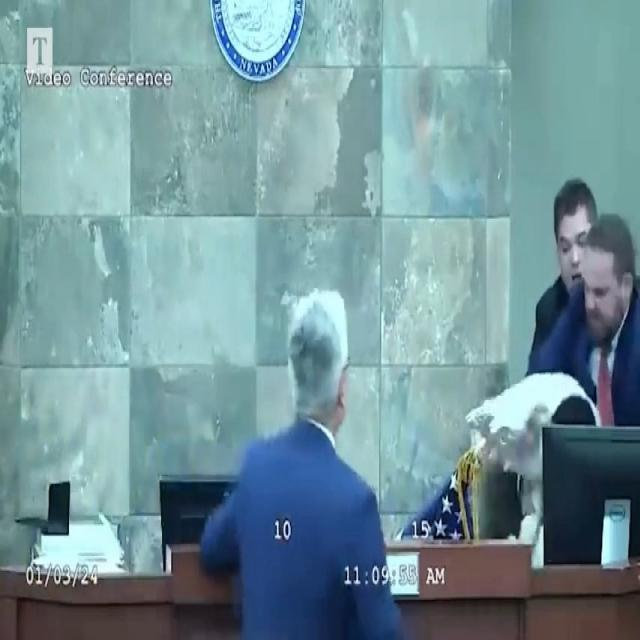fight: (514, 168, 640, 586)
non-fight: (193, 277, 419, 640)
